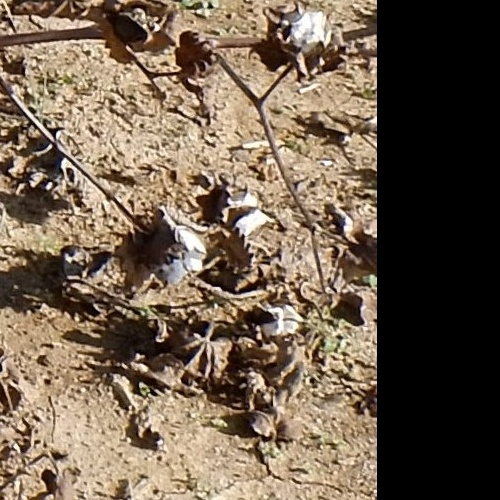mature_boll: (245, 5, 347, 75), (133, 208, 212, 295), (226, 194, 295, 289), (236, 298, 311, 354)
